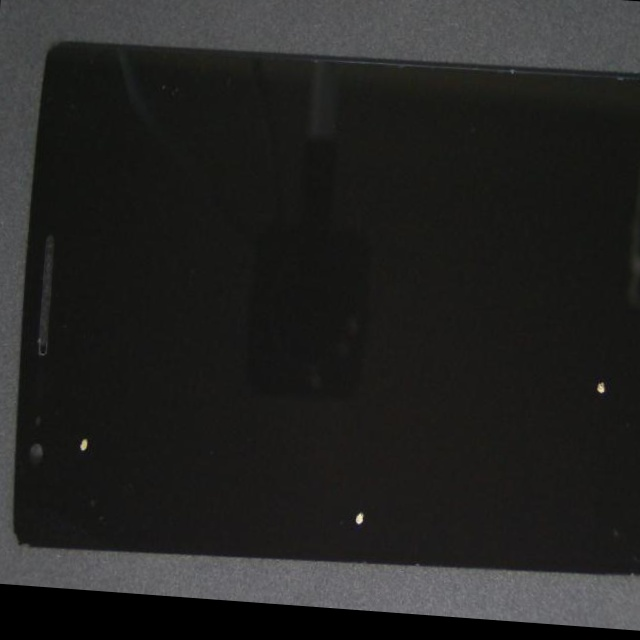stain: (171, 198, 570, 623), (297, 123, 640, 551), (24, 159, 140, 592)
